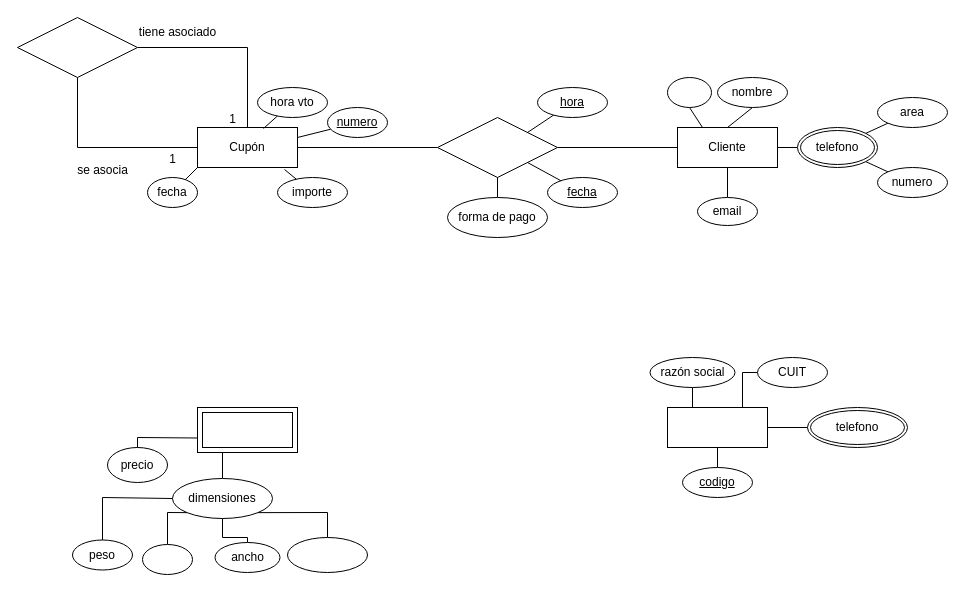
Image size: 965x592. Some labels were removed from this diagram. The shapes that lost their labels are listed below. From the top down, each one's centre as x and y in pixels, then its label:
At point 77,47: "es supercupon".
At point 689,92: "dni".
At point 497,147: "compra".
At point 247,429: "Producto".
At point 717,427: "Proveedor".
At point 167,559: "alto".
At point 327,554: "profundidad".
